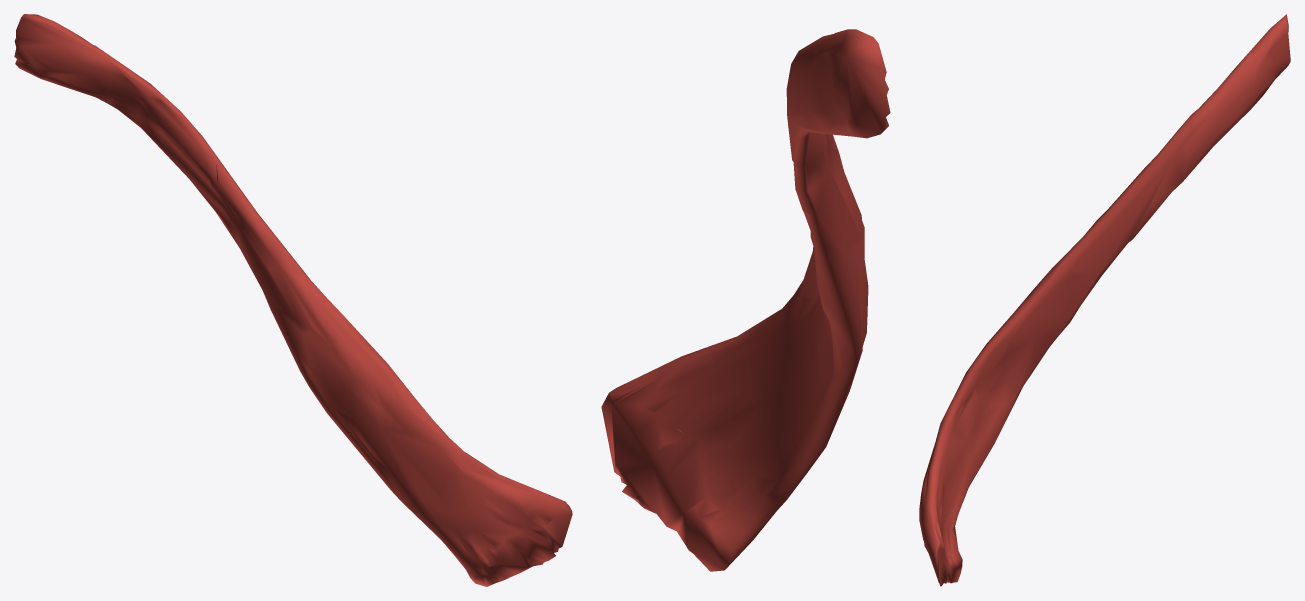
Rendered from musculos-abdominal-part-of-pectoralis-major-muscle-r.glb.
3 renders of one model, left to right at view 1: azimuth 30°, elevation 25°; view 2: azimuth 150°, elevation 25°; view 3: azimuth 270°, elevation 25°, orthographic. The views are drawn at different scales.
Visible parts, largest first — view 1: (Abdominal part of pectoralis major muscle).r; view 2: (Abdominal part of pectoralis major muscle).r; view 3: (Abdominal part of pectoralis major muscle).r.
Part boxes in pixels (x1,y1,x2,y2): (Abdominal part of pectoralis major muscle).r: (14, 14, 572, 586); (Abdominal part of pectoralis major muscle).r: (601, 29, 890, 571); (Abdominal part of pectoralis major muscle).r: (919, 14, 1290, 586).
Bounding box in the file's own units: 0.1321 × 0.1769 × 0.133.
